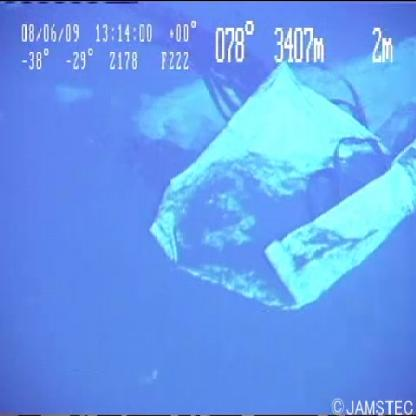Rác: (122, 11, 416, 326)
